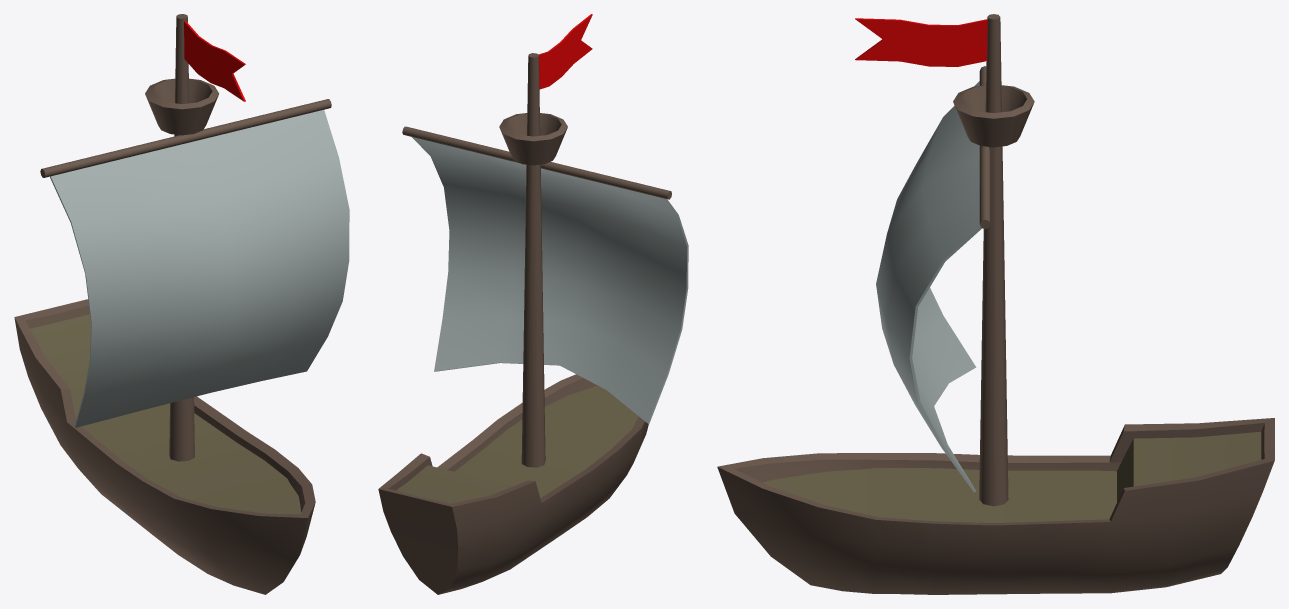
Rendered from Ship2.fbx.
The picture shows the model from 3 angles, left to right: view 1: azimuth 30°, elevation 25°; view 2: azimuth 150°, elevation 25°; view 3: azimuth 270°, elevation 25°; orthographic projection. The views are drawn at different scales.
Visible parts, largest first — view 1: Ship_b1, Ship_a1, Ship_c1; view 2: Ship_b1, Ship_a1, Ship_c1; view 3: Ship_a1, Ship_b1, Ship_c1.
Part boxes in pixels (x1,y1,x2,y2): Ship_b1: (40,99,349,427); Ship_a1: (14,14,315,594); Ship_c1: (184,21,245,101); Ship_b1: (402,126,688,423); Ship_a1: (378,53,648,594); Ship_c1: (539,14,592,89); Ship_a1: (717,14,1274,594); Ship_b1: (876,66,990,492); Ship_c1: (855,18,987,66).
Size of the model in its own units: 193 by 338 by 296.
